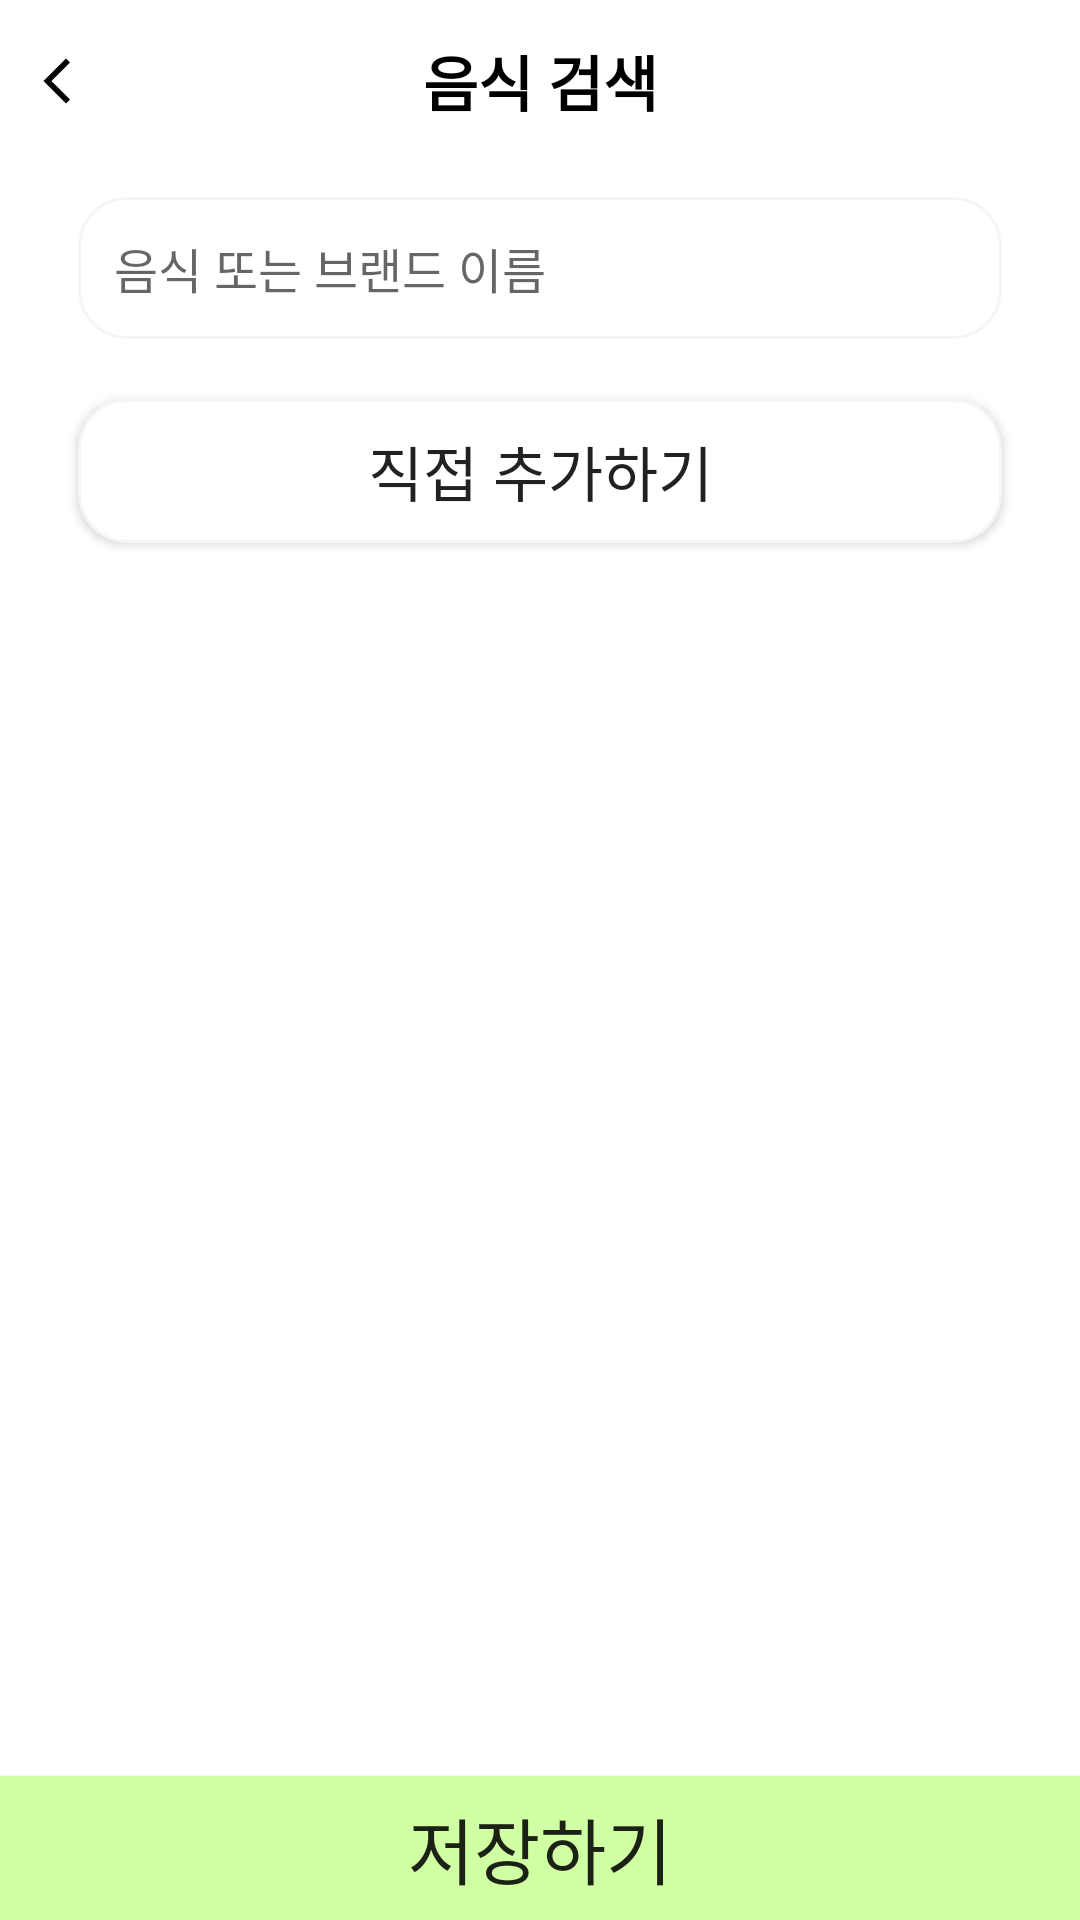

Named icons in this screenshot (1080x1920) and their bounding boxes, (x1, y1, x2, y2):
arrow back: (43, 58, 70, 104)
